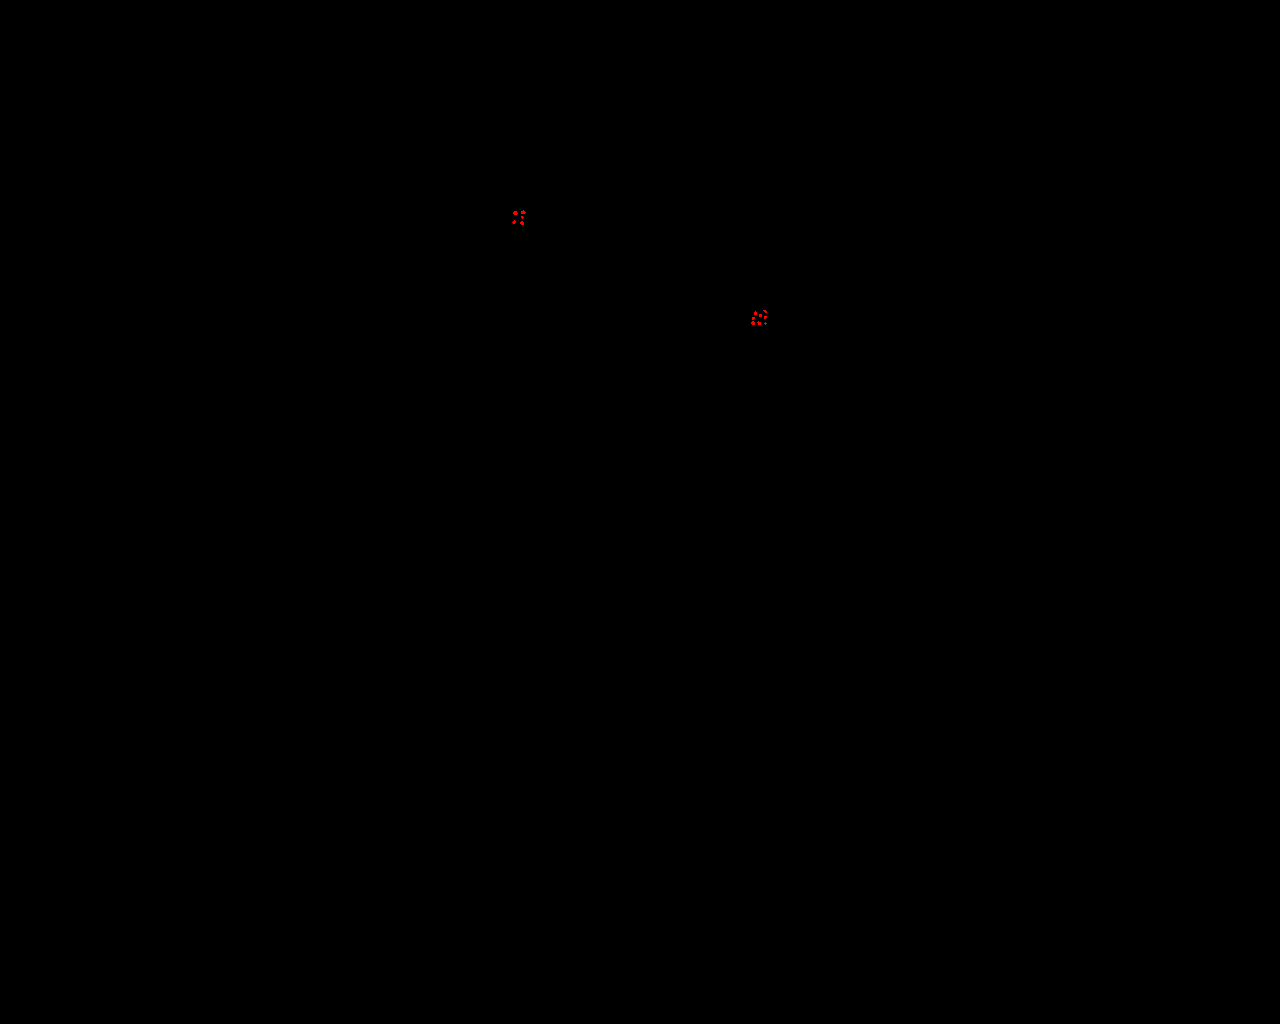Target: (513, 211, 518, 215), (521, 210, 526, 214), (751, 321, 755, 325), (757, 321, 761, 325), (512, 220, 516, 224), (763, 310, 767, 313), (520, 222, 523, 225), (764, 316, 767, 319), (752, 317, 755, 320), (764, 322, 767, 325), (521, 216, 523, 219), (754, 311, 757, 315), (759, 315, 762, 317)
